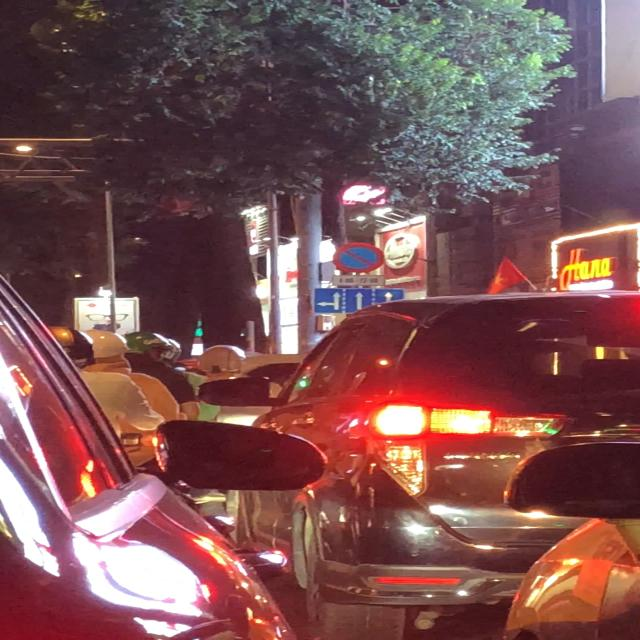Bien bao cam do xe: (332, 240, 387, 275)
